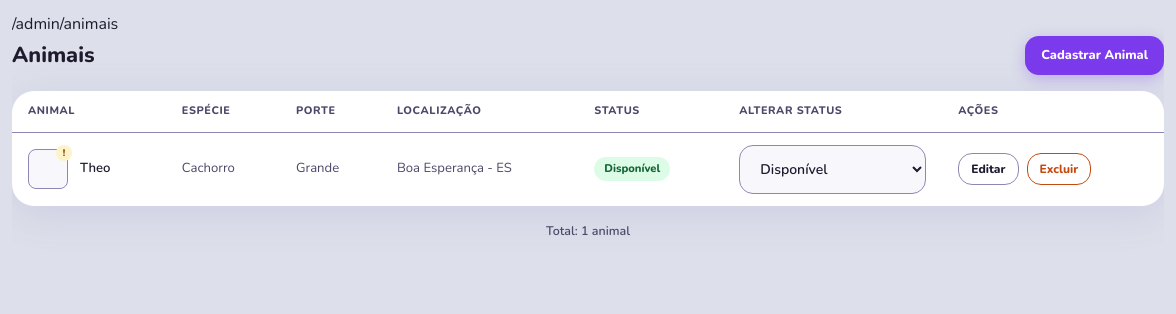
Test: alteração de status na linha › CT-69/CA-30: escolher "Adotado" atualiza o selo e avisa o sucesso
The image size is (1176, 314).
Select "Adotado" in the dropdown named "Alterar status de Theo" at (833, 169), box [739,144,926,194]
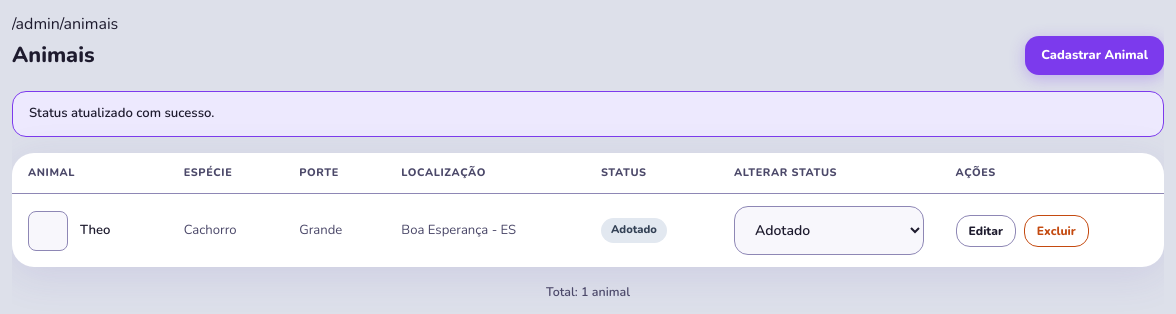
Expected: the text "Status atualizado com sucesso." is shown, [12,91,1164,137]
Expected: the cell "Adotado" is shown, [585,194,718,267]
